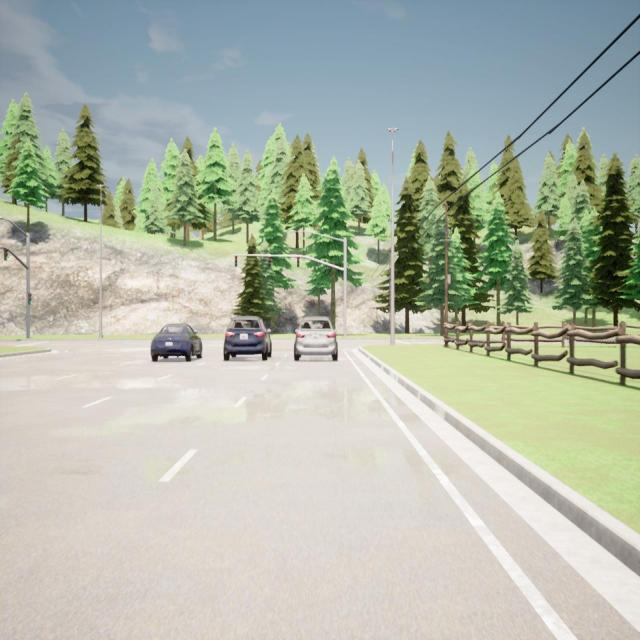Vehicle: (223, 315, 272, 361), (150, 322, 202, 362), (294, 316, 338, 361)
traffic_light: (28, 293, 33, 305), (4, 248, 8, 260), (296, 256, 300, 267), (268, 256, 271, 266), (235, 255, 237, 267)
